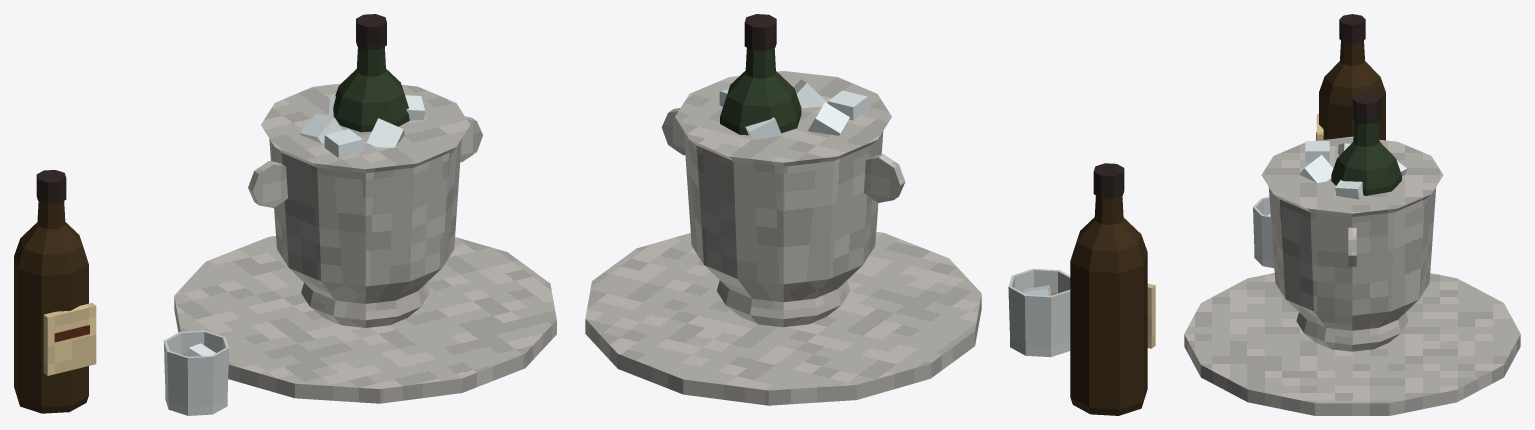
File: whiskey.glb
3 views of the same model, side by side, from view 1: azimuth 30°, elevation 25°; view 2: azimuth 150°, elevation 25°; view 3: azimuth 270°, elevation 25° (orthographic). The views are drawn at different scales.
Parts seen in each view (by area): view 1: WhiskeySet; view 2: WhiskeySet; view 3: WhiskeySet.
Boxes of the visible parts, x1,y1,x2,y2 form: WhiskeySet: (14,14,556,415); WhiskeySet: (585,14,1155,415); WhiskeySet: (1184,14,1520,415).
Size of the model in its own units: 0.732 by 0.4002 by 0.48.
Materials: 9 (3 with a texture image).
